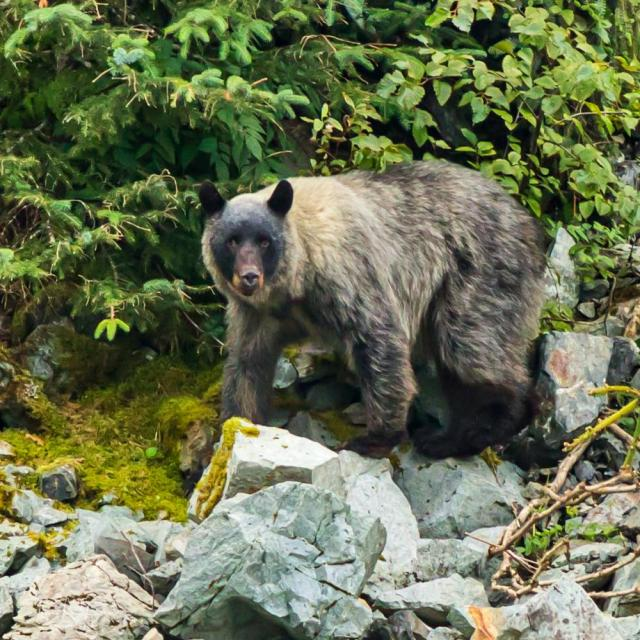Bear: (199, 158, 554, 461)
